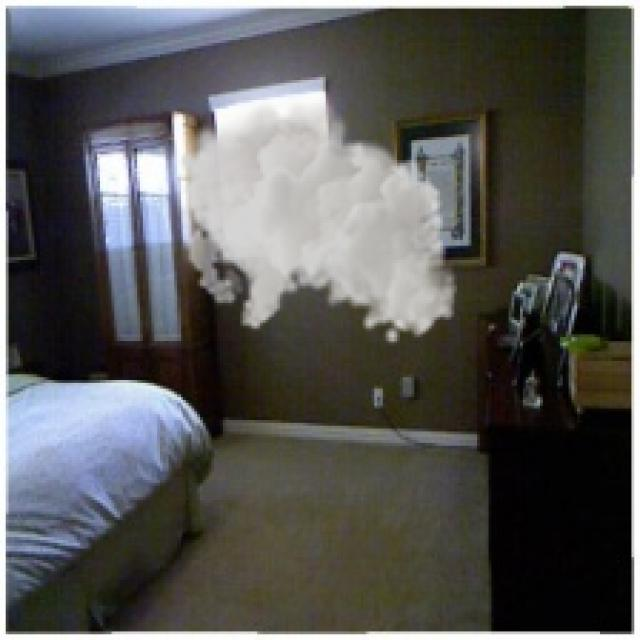smoke: (177, 91, 457, 346)
